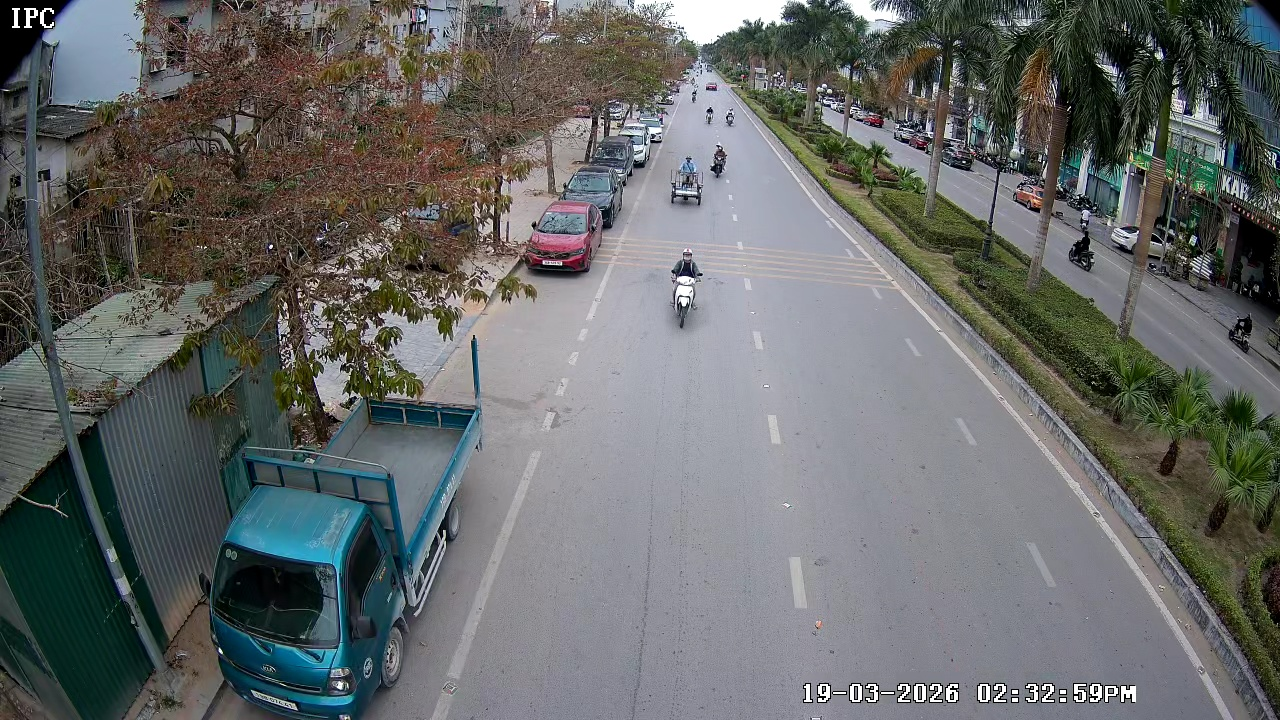car: (524, 200, 602, 276), (562, 168, 619, 227)
exception: (668, 153, 706, 210)
motorbike: (668, 247, 704, 329), (710, 140, 730, 180), (726, 110, 736, 128)
